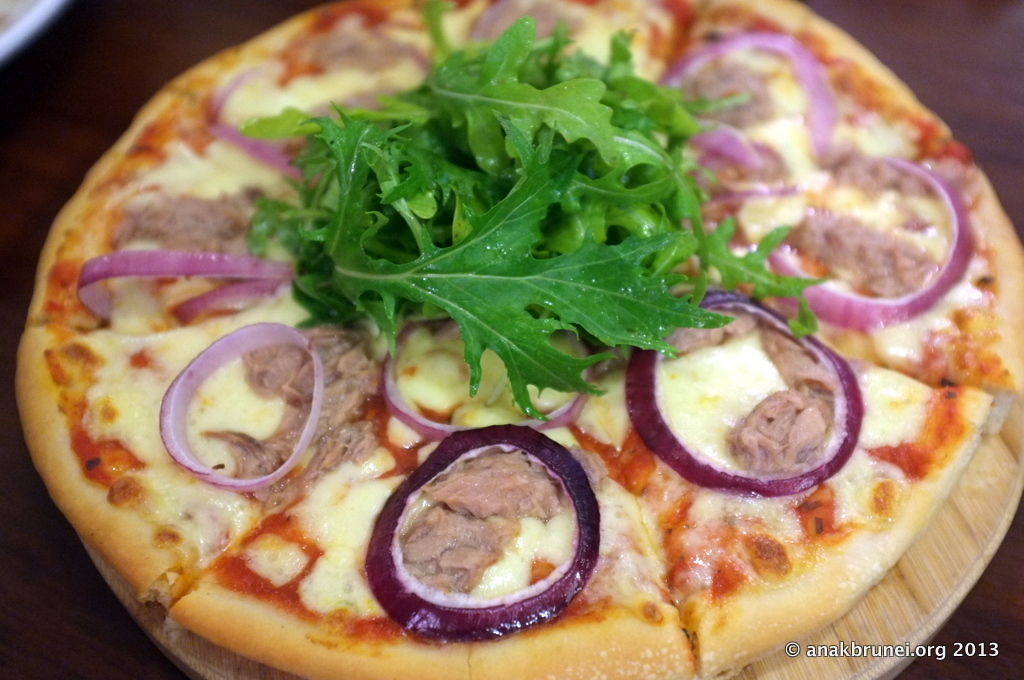Pizza: (12, 0, 1022, 678)
